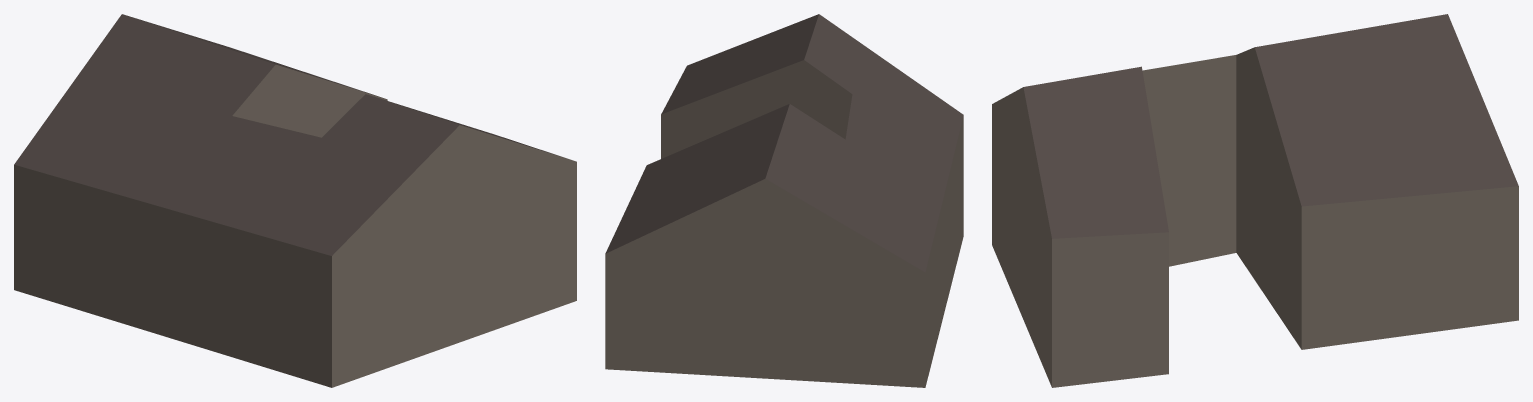
3 renders of one model, left to right at view 1: azimuth 30°, elevation 25°; view 2: azimuth 150°, elevation 25°; view 3: azimuth 270°, elevation 25°, orthographic. The views are drawn at different scales.
Visible parts, largest first — view 1: HP-w1513026735; view 2: HP-w1513026735; view 3: HP-w1513026735.
Boxes of the visible parts, bbox=[...] form: HP-w1513026735: bbox=[14, 14, 576, 387]; HP-w1513026735: bbox=[605, 14, 963, 387]; HP-w1513026735: bbox=[992, 14, 1518, 387].
Bounding box in the file's own units: 20.57 × 10.4 × 21.32.
